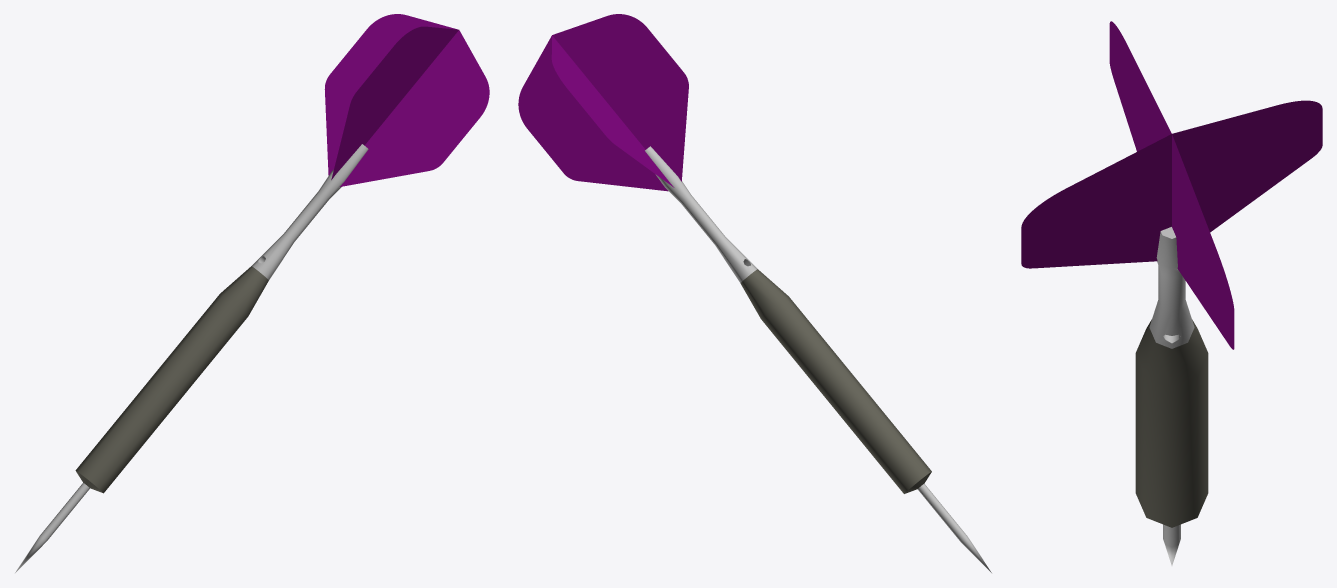
Rendered from Dart.fbx.
3 renders of one model, left to right at view 1: azimuth 30°, elevation 25°; view 2: azimuth 150°, elevation 25°; view 3: azimuth 270°, elevation 25°, orthographic. The views are drawn at different scales.
Parts seen in each view (by area): view 1: Group_1_2, Dart_Barrel1, Group_1_3, Group_1_1, Dart_Fletching_Holder1, Steel_Tip1; view 2: Group_1_3, Dart_Barrel1, Group_1_4, Group_1_1, Dart_Fletching_Holder1, Steel_Tip1; view 3: Group_1_2, Dart_Barrel1, Group_1_1, Group_1_4, Group_1_3, Dart_Fletching_Holder1, Steel_Tip1.
Part boxes in pixels (<box>): Group_1_2: <box>340,30,489,186</box>; Dart_Barrel1: <box>75,266,268,493</box>; Group_1_3: <box>331,26,458,179</box>; Group_1_1: <box>324,14,457,175</box>; Dart_Fletching_Holder1: <box>252,144,368,279</box>; Steel_Tip1: <box>15,483,89,572</box>; Group_1_3: <box>552,14,688,181</box>; Dart_Barrel1: <box>740,269,931,493</box>; Group_1_4: <box>518,36,668,191</box>; Group_1_1: <box>551,35,674,187</box>; Dart_Fletching_Holder1: <box>645,146,757,282</box>; Steel_Tip1: <box>917,483,991,572</box>; Group_1_2: <box>1021,134,1171,268</box>; Dart_Barrel1: <box>1135,319,1208,527</box>; Group_1_1: <box>1172,100,1322,232</box>; Group_1_4: <box>1172,134,1234,349</box>; Group_1_3: <box>1109,21,1171,151</box>; Dart_Fletching_Holder1: <box>1149,227,1194,348</box>; Steel_Tip1: <box>1163,524,1180,565</box>.
Bounding box in the file's own units: 1.76 × 1.66 × 0.4976.
